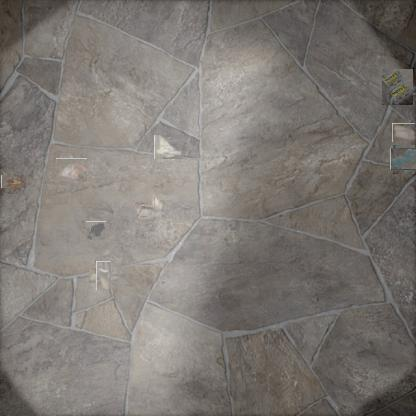dirty: (380, 70, 414, 104), (130, 193, 164, 221), (58, 156, 85, 183), (156, 134, 182, 161), (93, 264, 114, 287), (392, 123, 415, 142), (4, 172, 24, 191)
liquid: (391, 146, 416, 172), (86, 221, 106, 240)
